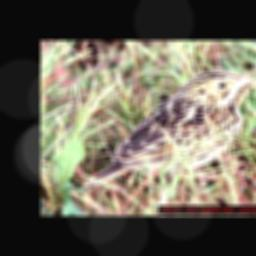Sparrow: (78, 67, 256, 192)
